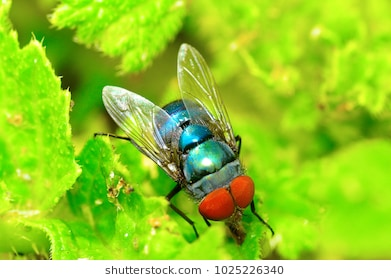green bottles flies: (84, 28, 285, 247)
